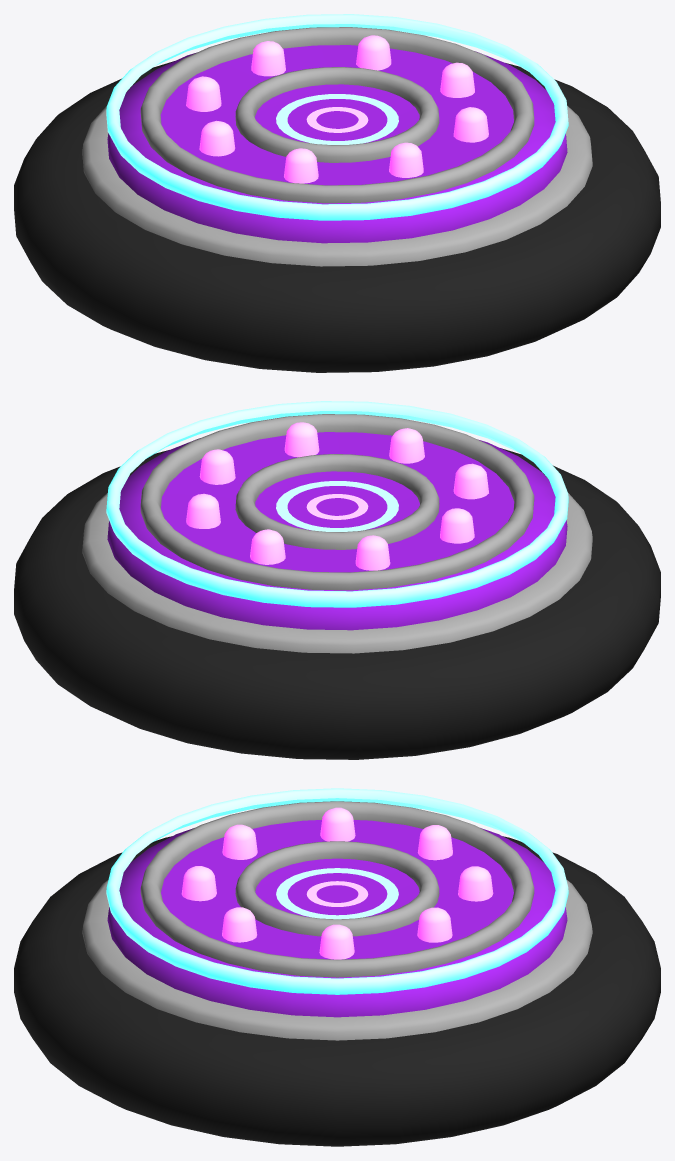
File: mesh_Rooftop_Trap_BumperBig.fbx
The picture shows the model from 3 angles, top to bottom: view 1: azimuth 30°, elevation 25°; view 2: azimuth 150°, elevation 25°; view 3: azimuth 270°, elevation 25°; orthographic projection.
Visible parts, largest first — view 1: mesh_Rooftop_Trap_BumperBig; view 2: mesh_Rooftop_Trap_BumperBig; view 3: mesh_Rooftop_Trap_BumperBig.
Boxes of the visible parts, x1,y1,x2,y2 form: mesh_Rooftop_Trap_BumperBig: (14,14,660,372); mesh_Rooftop_Trap_BumperBig: (14,401,660,759); mesh_Rooftop_Trap_BumperBig: (14,788,660,1146).
Size of the model in its own units: 7.72 by 2.11 by 7.72.
